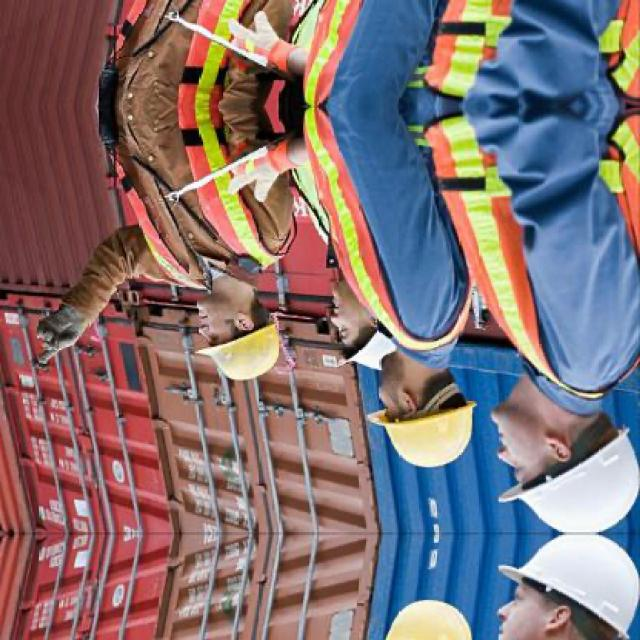con casco: (485, 354, 640, 526), (148, 252, 295, 391), (372, 318, 470, 462), (318, 252, 406, 385)
